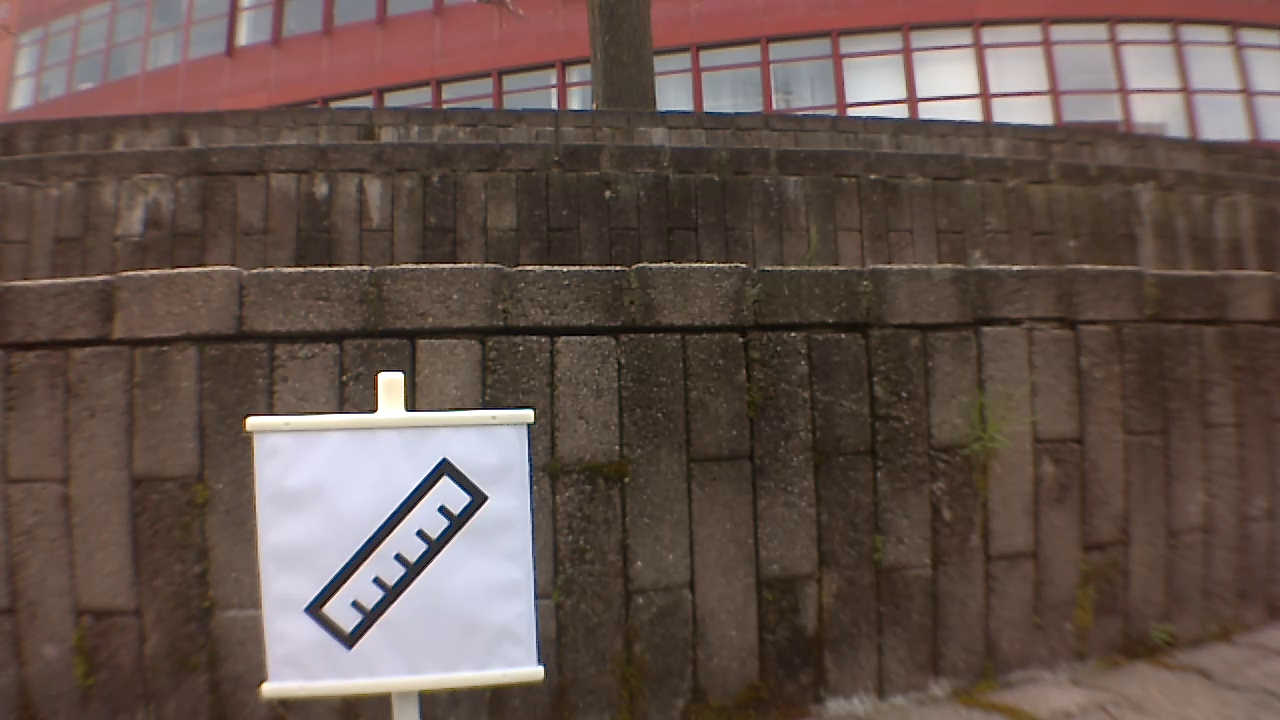ruler: (299, 448, 506, 657)
